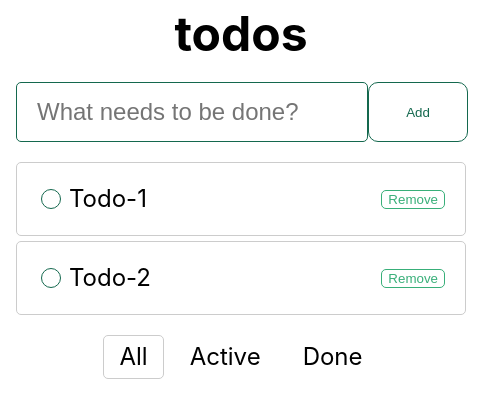
it: Todo list › Check first todo as done (it should be in done list, not in active list)
Click the checkbox labelled "Todo-1" at (51, 199), box [41,189,61,209]
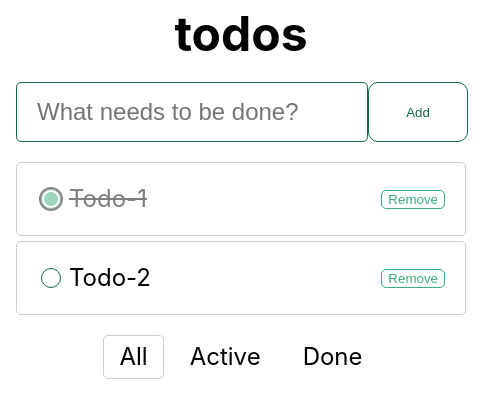
Check: the checkbox labelled "Todo-1" is checked, box [41,189,61,209]
Click the radio button labelled "Active" at (225, 357), box [190,342,261,371]
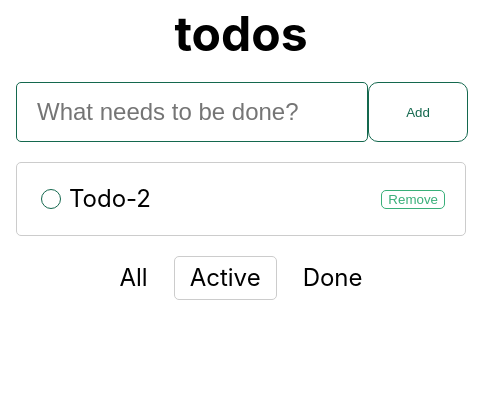
Check: the text "Todo-2" is shown, box [37,183,151,215]
Check: the number of checkboxes is 1, box [41,189,61,209]
Click the radio button labelled "Done" at (333, 278), box [303,263,362,292]
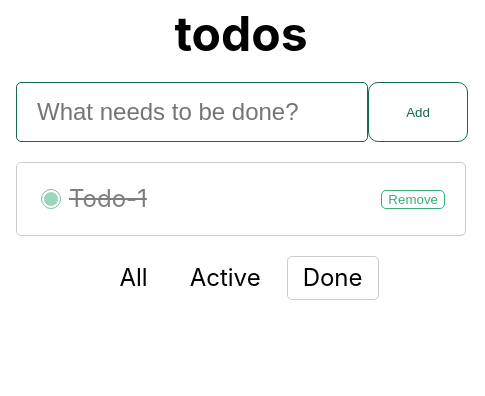
Check: the number of checkboxes is 1, box [41,189,61,209]
Check: the text "Todo-1" is shown, box [37,183,147,215]
